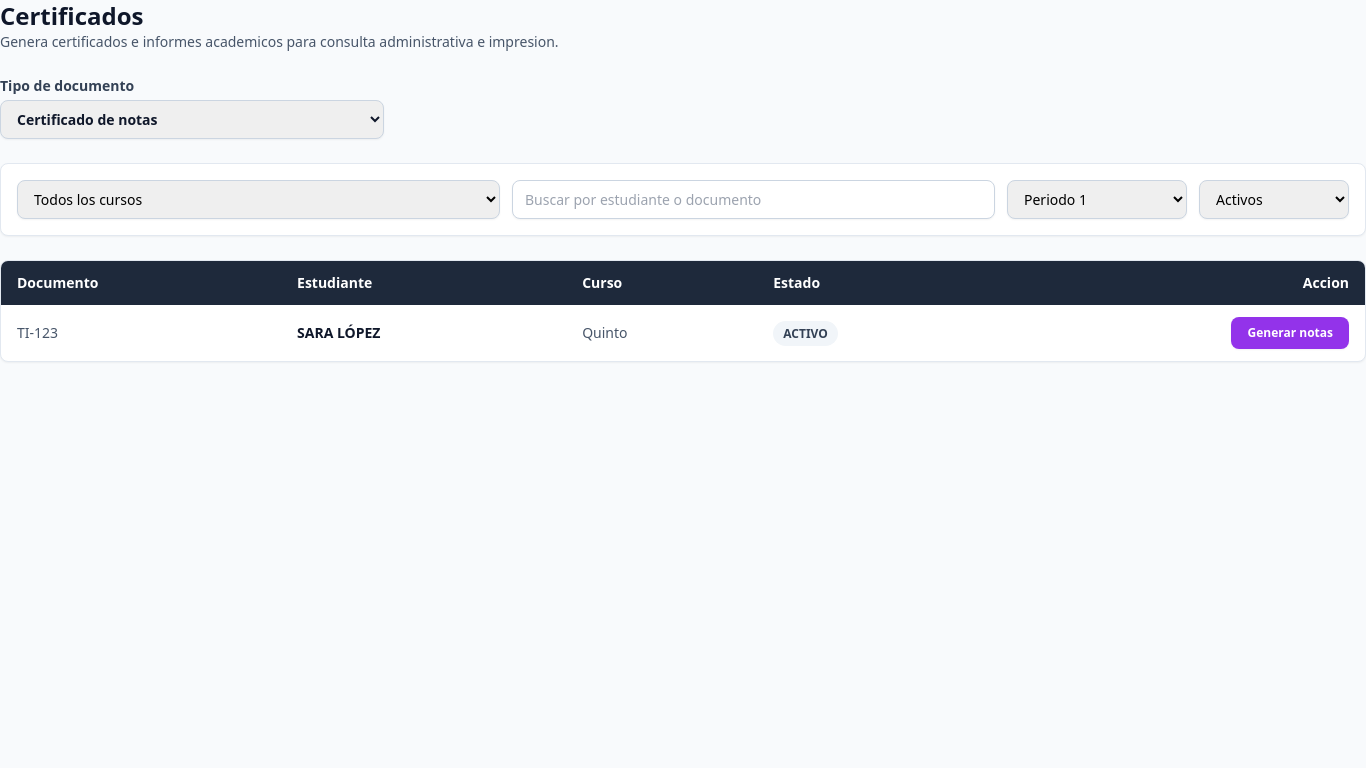
Test: CertificadosAdmin › genera la conducta con el año que se mira, elige el desempeño y vuelve a la lista
Expected: the text "TI-123" is shown, [1,305,281,361]
Select "Certificado de conducta" in the dropdown labelled "Tipo de documento". click: (192, 120)
box: [0,100,384,139]
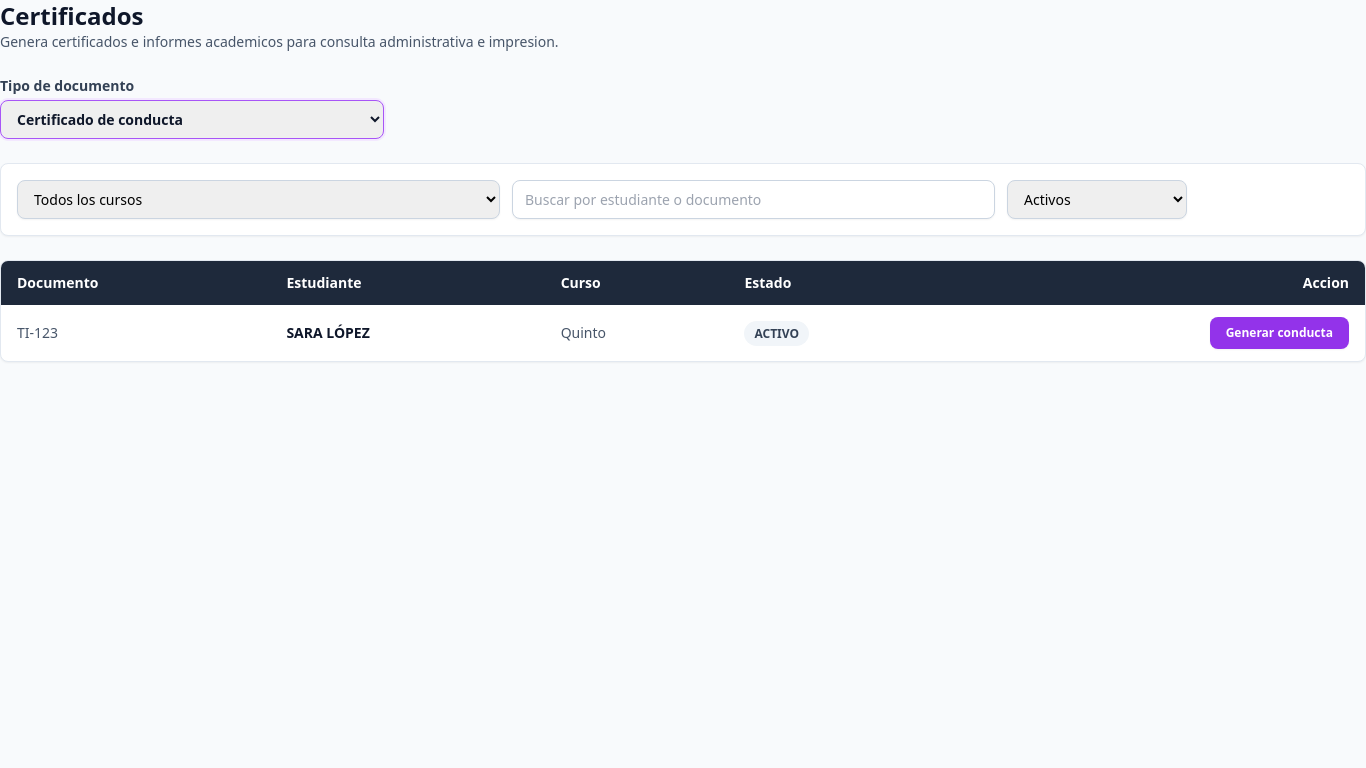
Click the button "Generar conducta". click: click(1279, 333)
box: [1210,317,1349,349]
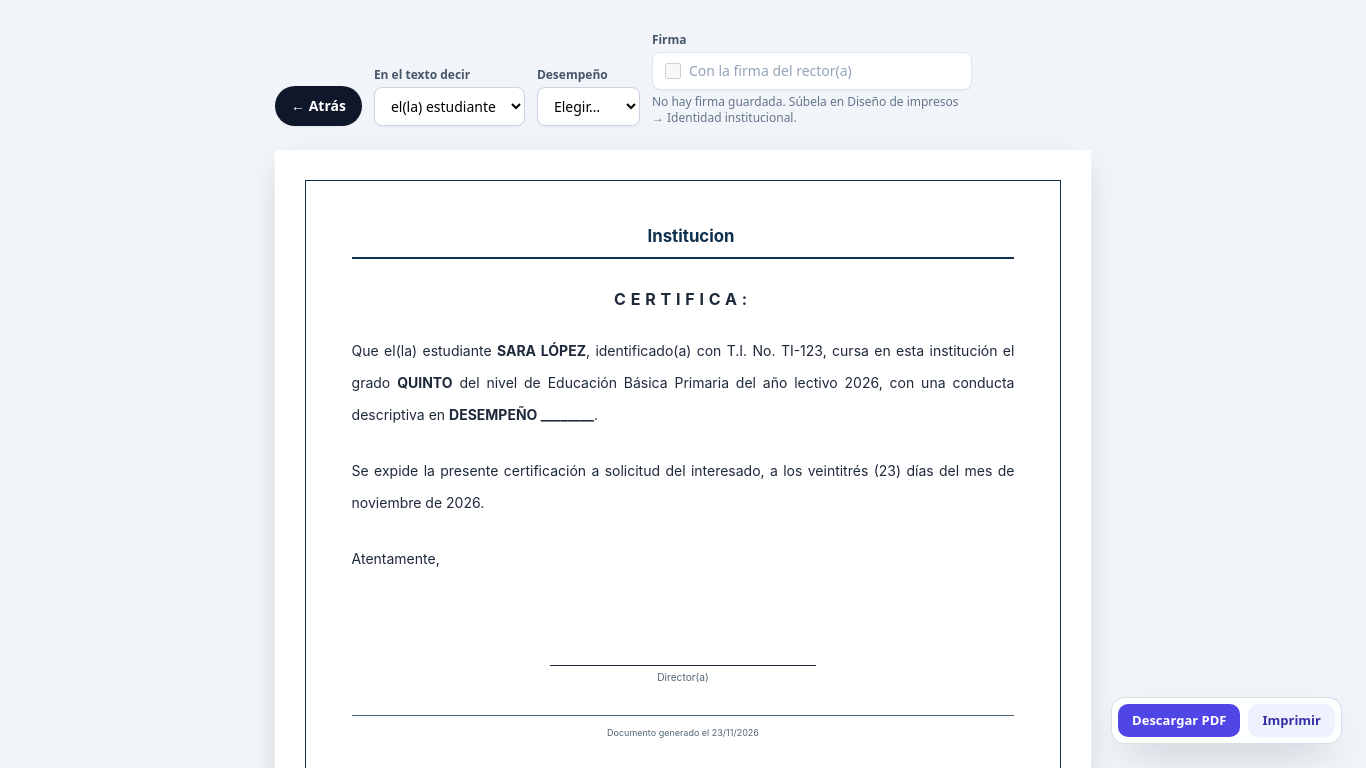
Result: the text "CERTIFICA:" is shown at [614,289,752,309]
Select "la niña" in the dropdown labelled "En el texto decir". click: (449, 106)
box: [374,87,525,126]
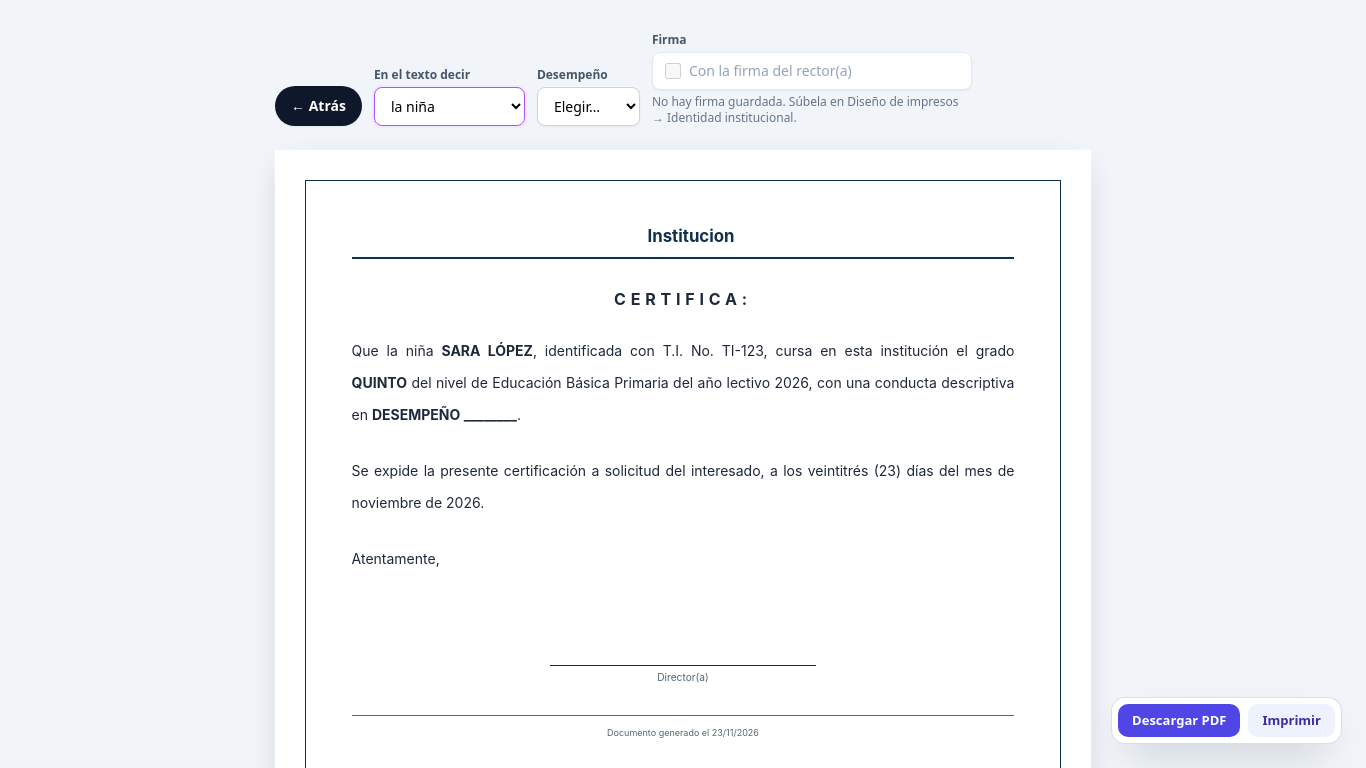
Select "Superior" in the dropdown labelled "Desempeño". click: (588, 106)
box: [537,87,640,126]
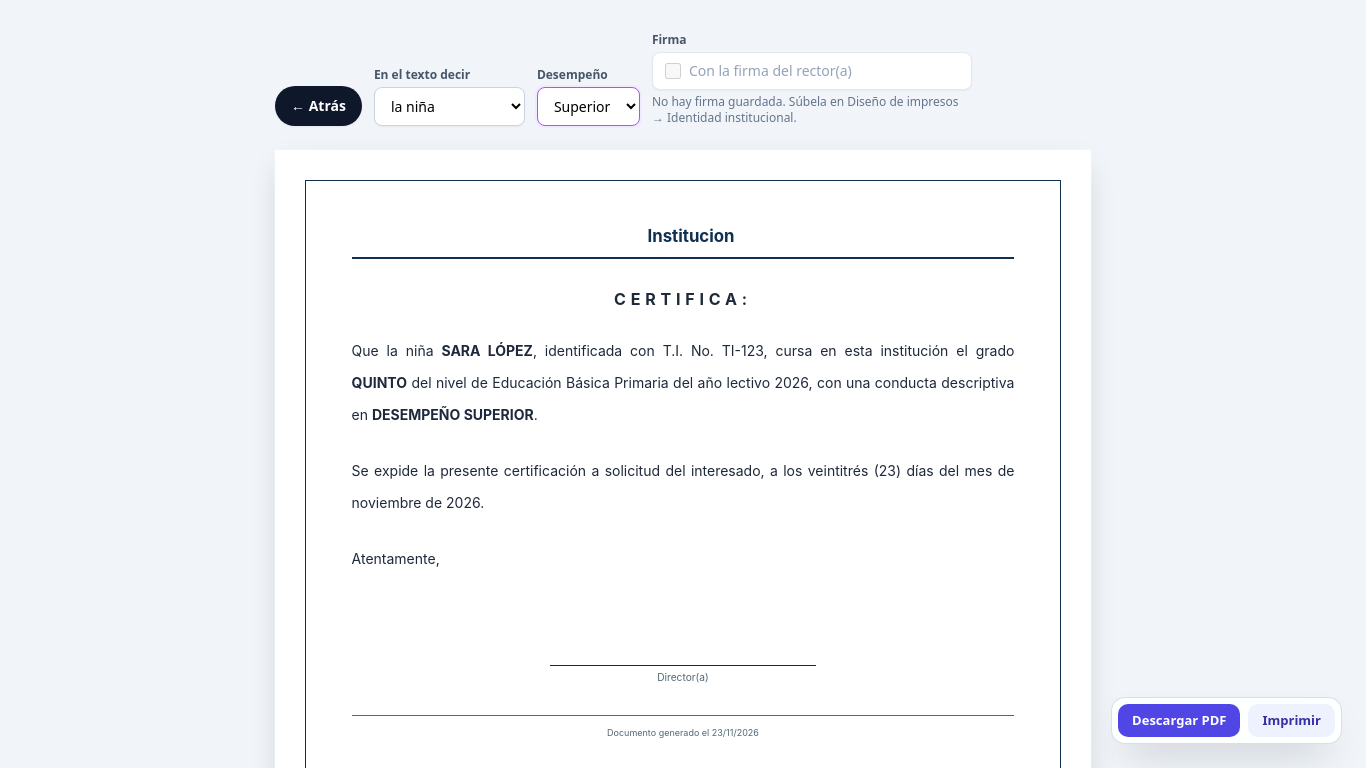
Click the button "← Atrás". click: click(318, 106)
box: [275,86,362,126]
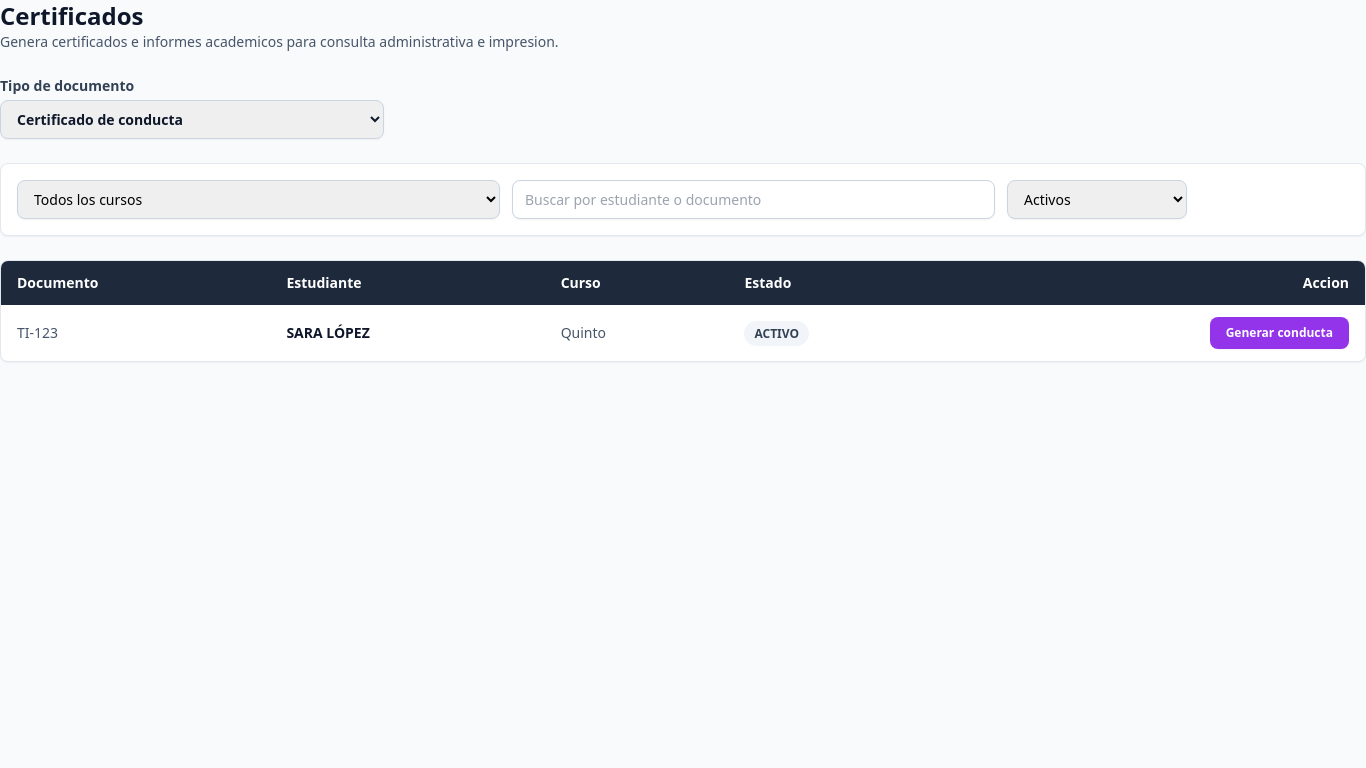
Result: the dropdown labelled "Tipo de documento" shows "Certificado de conducta" at [0,100,384,139]
